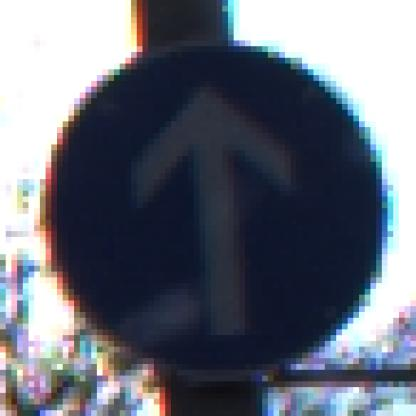AheadOnly: (41, 36, 383, 382)
